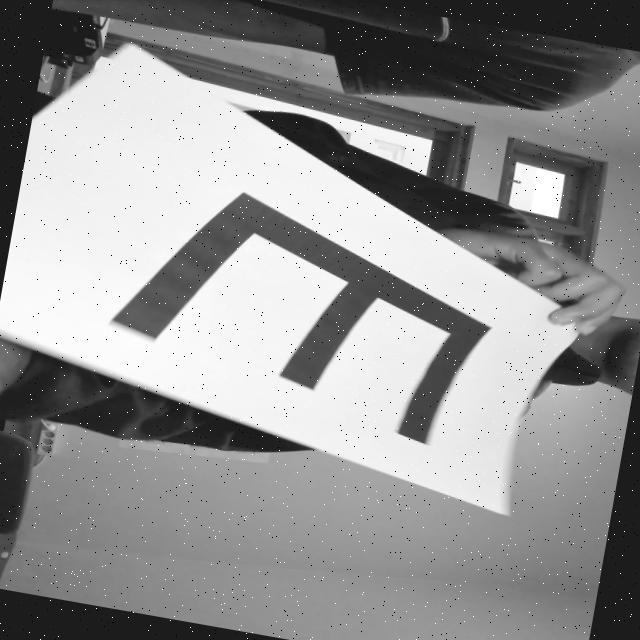e: (78, 162, 536, 468)
